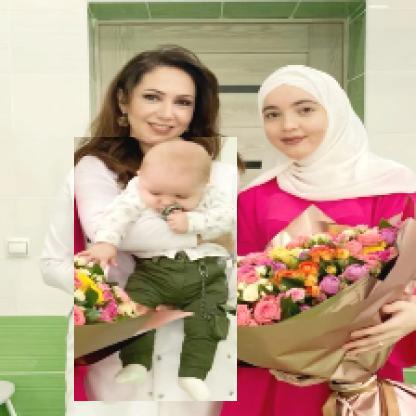child: (75, 138, 239, 403)
